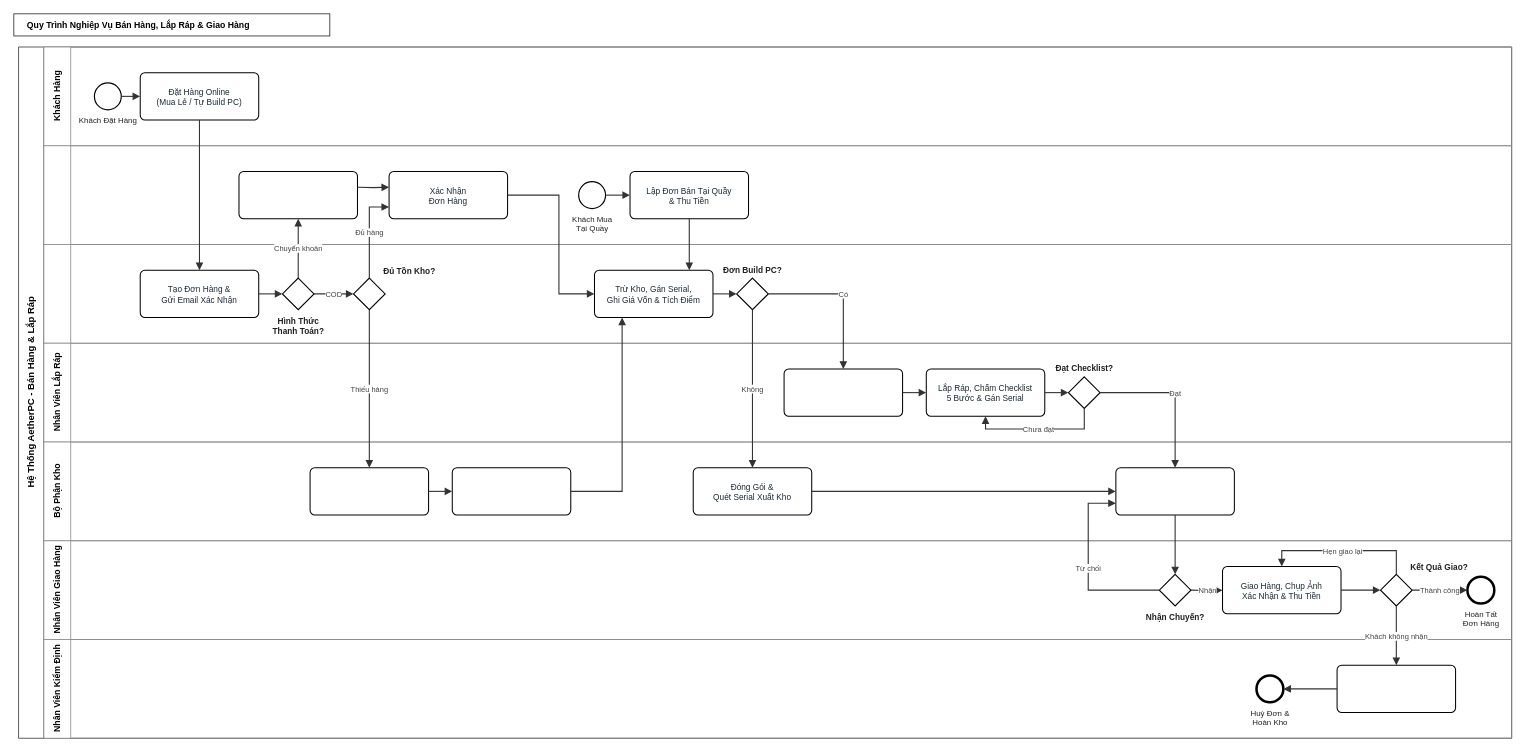
Some shapes in this 1538 by 752 pixel diagram are drawn without their labels. The shapes that lost their labels are listed below. From the top down, each one's box as (x1, y1, x2, y2) in pixels, then its label:
(238, 171, 358, 219): Đối Soát Tiền Chuyển Khoản
(43, 145, 1512, 245): Nhân Viên Bán Hàng
(43, 244, 1512, 343): Hệ Thống
(783, 368, 903, 416): Tạo Lệnh Lắp Ráp Theo Đơn Hàng
(309, 467, 429, 515): Tạm Giữ Đơn Chờ Hàng & Lập Đề Xuất Mua
(451, 467, 571, 515): Hàng Về Đủ, Xác Nhận Đơn Chờ
(1115, 467, 1235, 515): Phân Công Nhân Viên Giao Hàng
(1336, 664, 1456, 713): Thẩm Định Kiện Hàng Hoàn Về Kho
